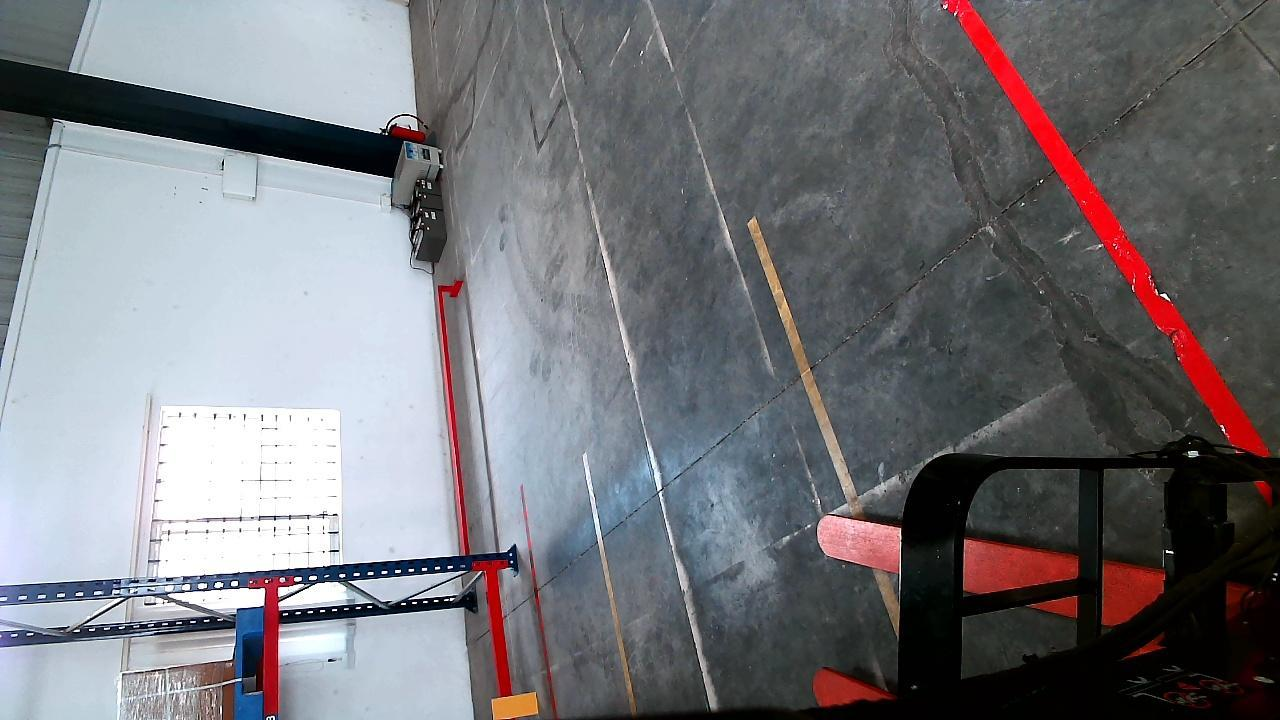red_line: (942, 1, 1258, 447)
yellow_line: (748, 219, 864, 520)
